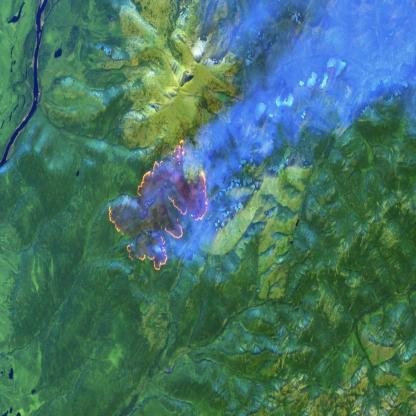fire: (104, 134, 213, 275)
